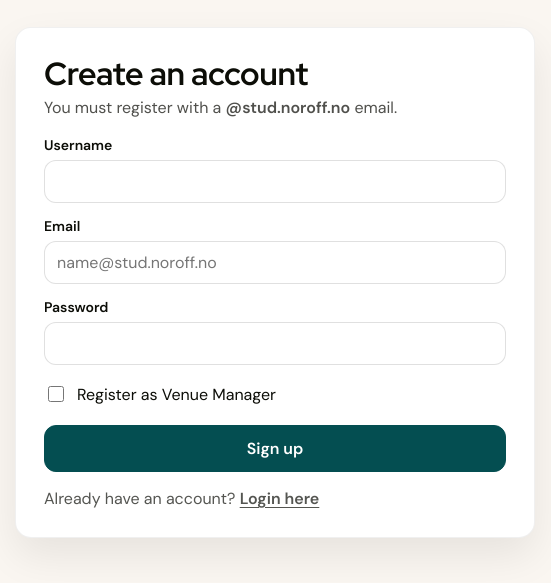
Test case: Register page › shows email validation error for non-stud.noroff.no email
This screenshot has width=551, height=583.
In the field labelled "Username": (275, 182) [44, 160, 506, 203], type "Veronica"
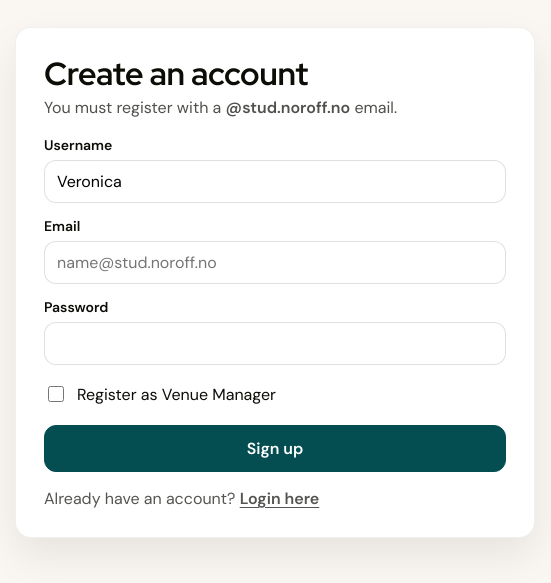
In the field labelled "Email": (275, 263) [44, 241, 506, 284], type "test@gmail.com"
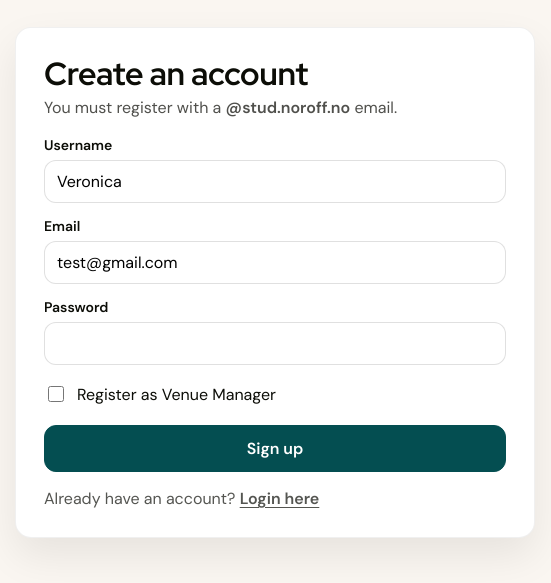
In the password field labelled "Password": (275, 344) [44, 322, 506, 365], type "password123"
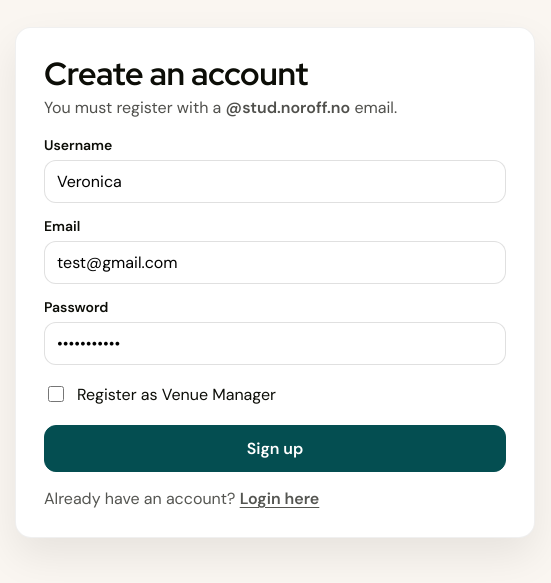
Click the button "Sign up": click(275, 449) [44, 425, 506, 472]
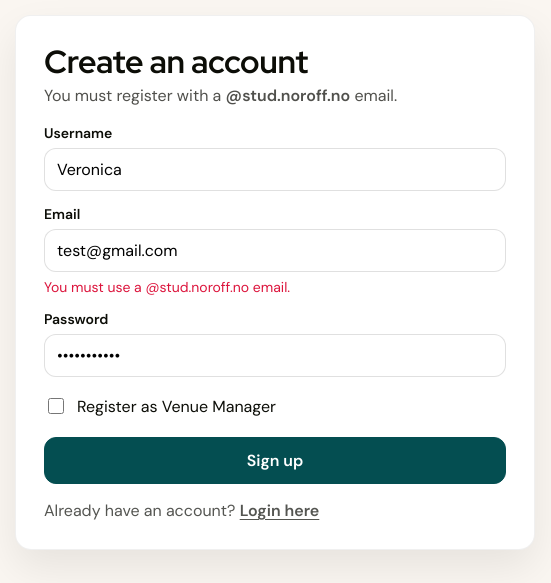
Expected: the text "You must use a @stud.noroff.no email." is shown, [44, 278, 290, 296]
